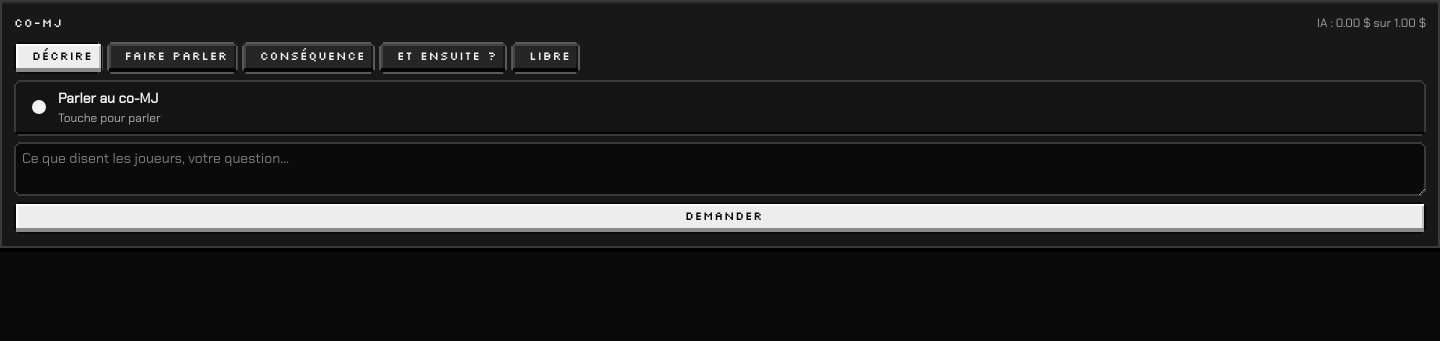
Test case: the co-GM by voice › records on one touch, sends on the next with the chosen kind, and shows what it heard
The image size is (1440, 341).
Click the button "Faire parler" at (172, 58), box [106, 42, 238, 74]
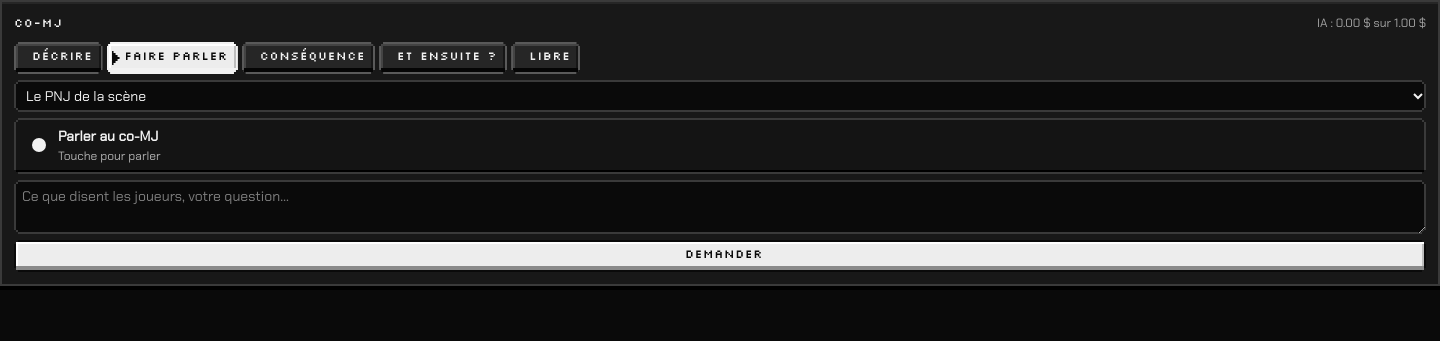
Select "Marguerite Goulven" in the dropdown named "PNJ" at (720, 96), box [14, 80, 1426, 112]
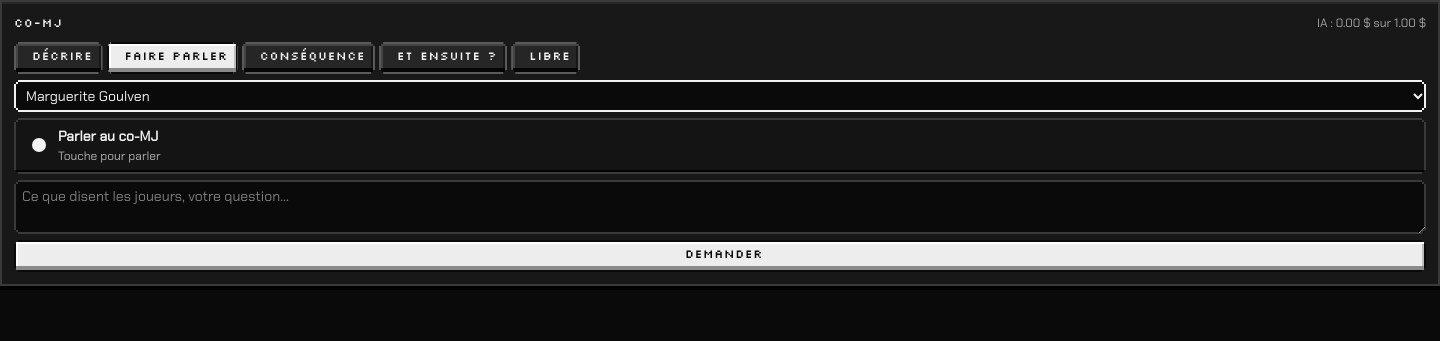
Click the button "Parler au co-MJ Touche pour parler" at (108, 136), box [14, 118, 1426, 174]
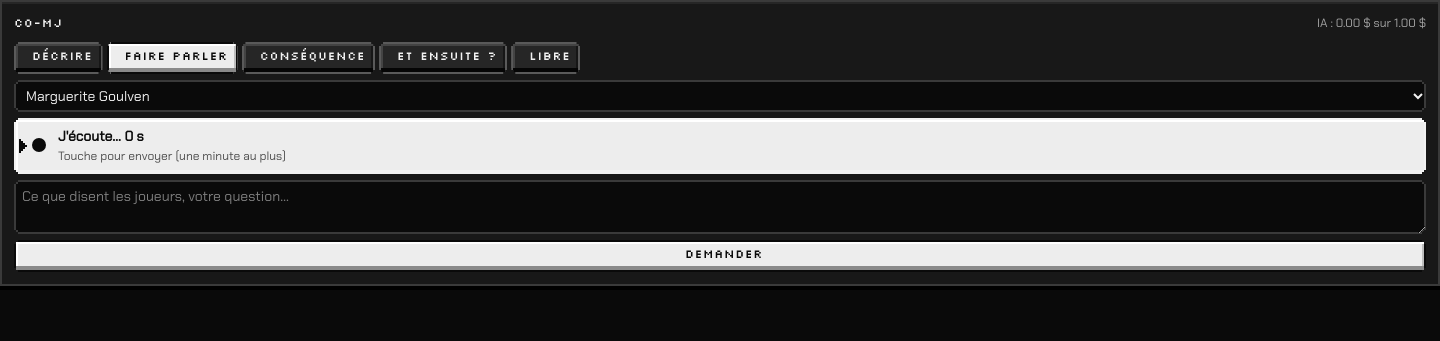
Now the button "J'écoute… 0 s Touche pour envoyer (une minute au plus)" is pressed
Click the button "J'écoute… 0 s Touche pour envoyer (une minute au plus)" at (101, 136), box [14, 118, 1426, 174]
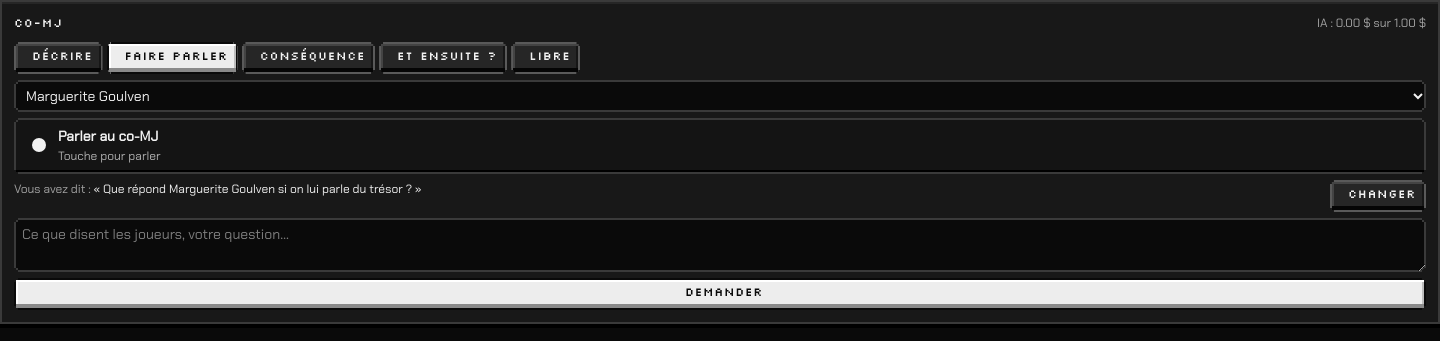
Now the text "« Que répond Marguerite Goulven" is shown, box [14, 180, 421, 198]
« Changer »: the words go to the text field, to correct and ask again.
Click the button "Changer" at (1378, 196), box [1330, 180, 1426, 212]
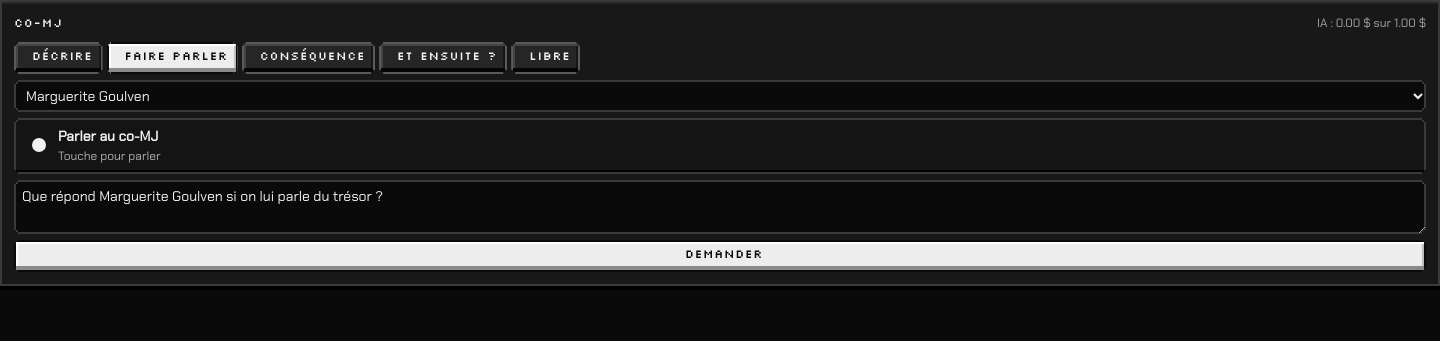
Now the text box named "Ce que disent les joueurs, votre question…" holds "Que répond Marguerite Goulven si on lui parle du trésor ?", box [14, 180, 1426, 234]
